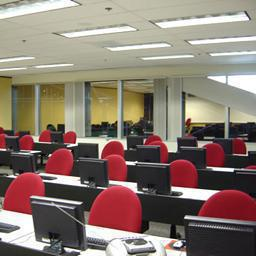Ventana: (180, 76, 253, 141), (87, 81, 155, 138), (14, 84, 67, 134)
